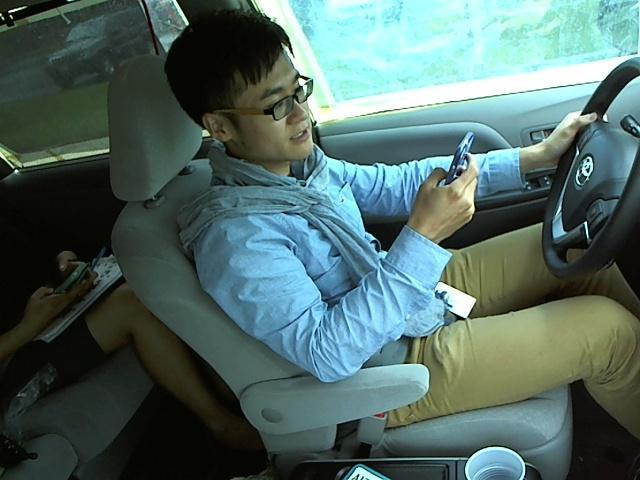PhoneUse: (441, 125, 478, 208)
